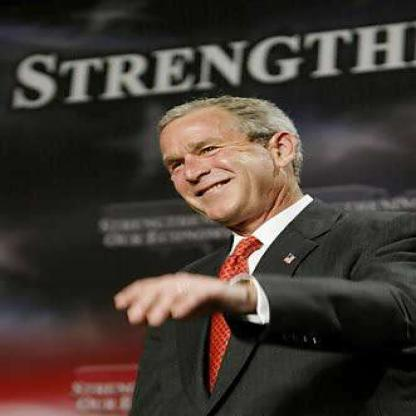face: (159, 105, 277, 226)
